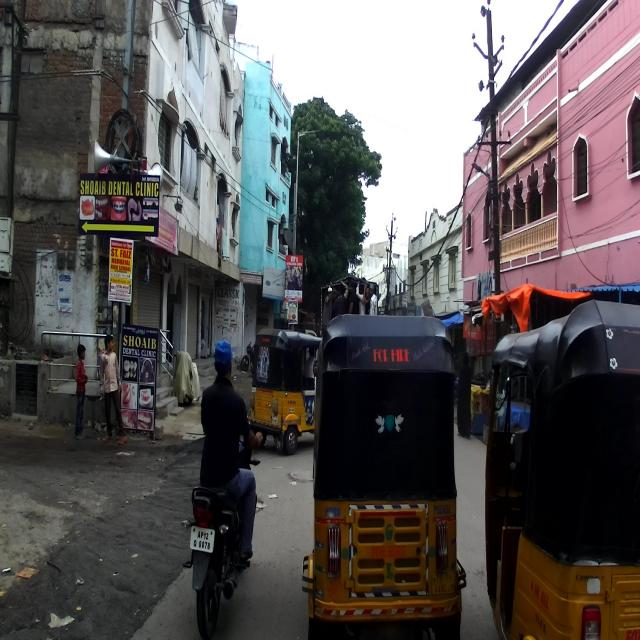autorickshaw: (299, 314, 467, 640), (483, 296, 640, 640), (247, 326, 322, 454)
motorcycle: (179, 422, 261, 639)
